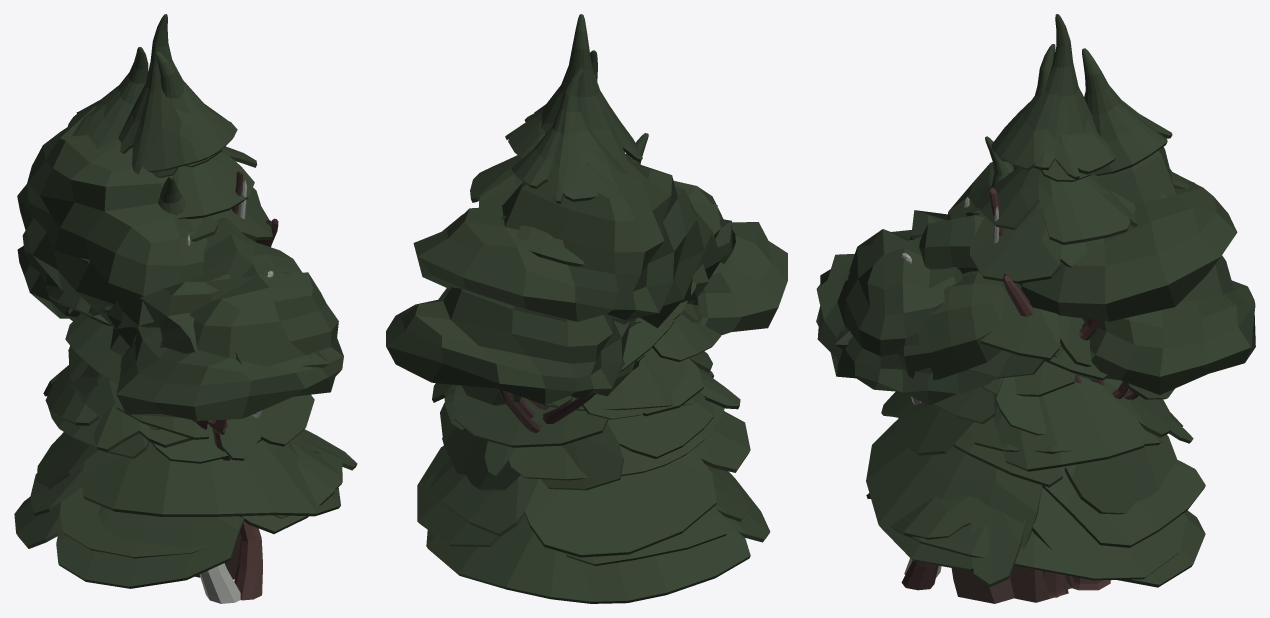
The model's file is nature.glb.
3 views of the same model, side by side, from view 1: azimuth 30°, elevation 25°; view 2: azimuth 150°, elevation 25°; view 3: azimuth 270°, elevation 25° (orthographic). The views are drawn at different scales.
Parts seen in each view (by area): view 1: CommonTree_2, PineTree_2, CommonTree_1, PineTree_3, PineTree_1, PineTree_4, PineTree_5, Willow_Dead_1, BirchTree_Dead_1; view 2: PineTree_3, CommonTree_2, PineTree_2, CommonTree_1, PineTree_1, PineTree_5, PineTree_4; view 3: PineTree_2, CommonTree_2, CommonTree_1, PineTree_3, PineTree_4, PineTree_1, PineTree_5, CommonTree_Dead_2, Willow_Dead_1, CommonTree_Dead_3.
Part boxes in pixels (x1,y1,x2,y2): CommonTree_2: (17, 107, 329, 421); PineTree_2: (36, 14, 340, 516); CommonTree_1: (17, 231, 343, 429); PineTree_3: (14, 47, 357, 588); PineTree_1: (30, 346, 342, 558); PineTree_4: (68, 51, 272, 579); PineTree_5: (65, 176, 207, 429); Willow_Dead_1: (212, 420, 262, 600); BirchTree_Dead_1: (199, 270, 273, 603); PineTree_3: (426, 68, 770, 603); CommonTree_2: (413, 154, 735, 327); PineTree_2: (430, 14, 750, 557); CommonTree_1: (386, 181, 787, 433); PineTree_1: (417, 317, 748, 565); PineTree_5: (536, 133, 720, 410); PineTree_4: (470, 50, 696, 361); PineTree_2: (866, 14, 1205, 602); CommonTree_2: (834, 147, 1237, 580); CommonTree_1: (816, 229, 1255, 405); PineTree_3: (866, 48, 1205, 589); PineTree_4: (951, 44, 1138, 603); PineTree_1: (891, 361, 1193, 588); PineTree_5: (933, 136, 1132, 435); CommonTree_Dead_2: (1003, 276, 1110, 590); Willow_Dead_1: (901, 561, 938, 590); CommonTree_Dead_3: (989, 188, 1065, 597).
Bounding box in the file's own units: 9.95 × 16.4 × 11.65.
